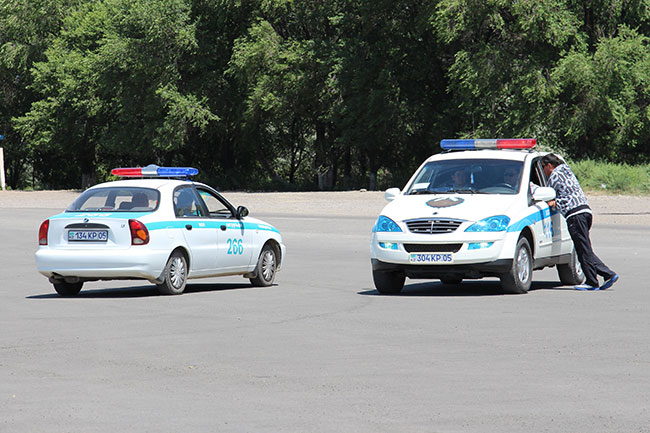special: (28, 163, 285, 300), (369, 136, 586, 293)
